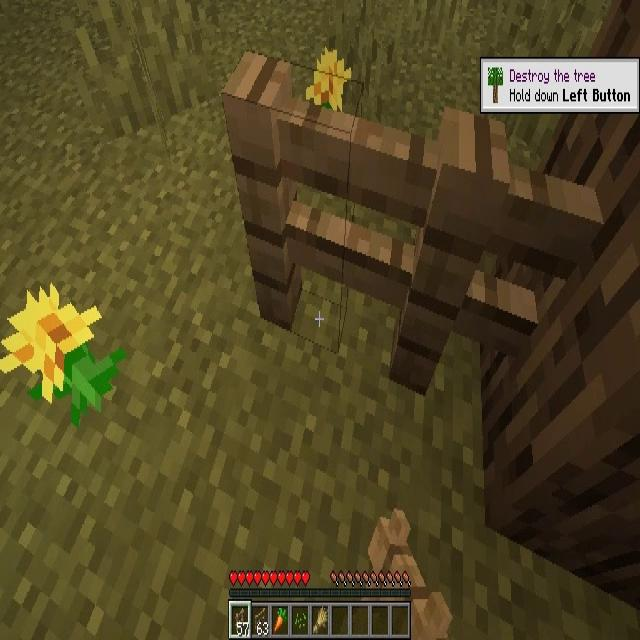flower: (0, 283, 127, 425), (305, 46, 353, 111)
